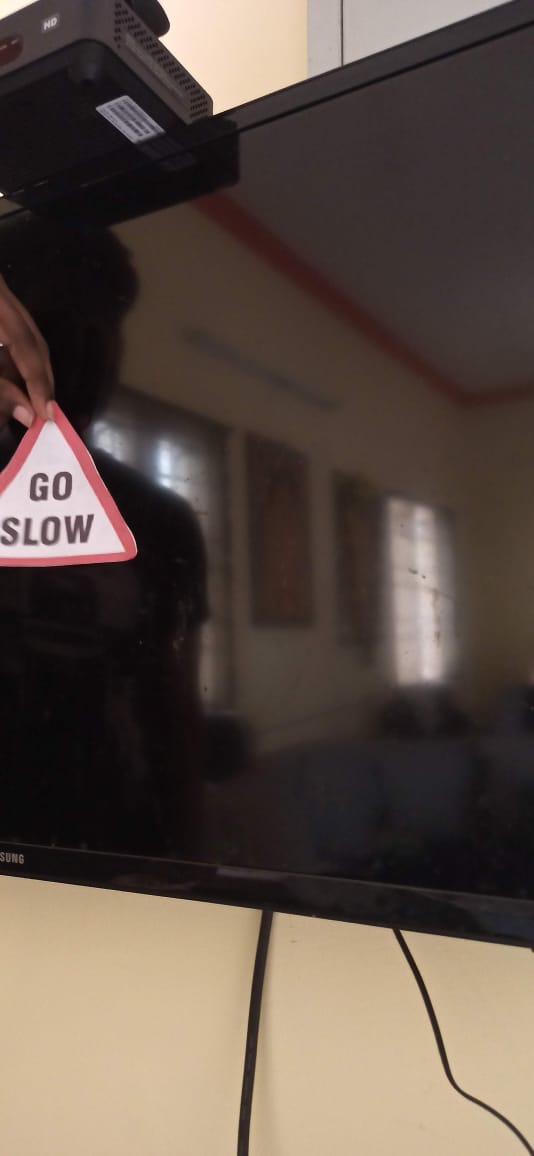GO SLOW: (1, 407, 172, 582)
